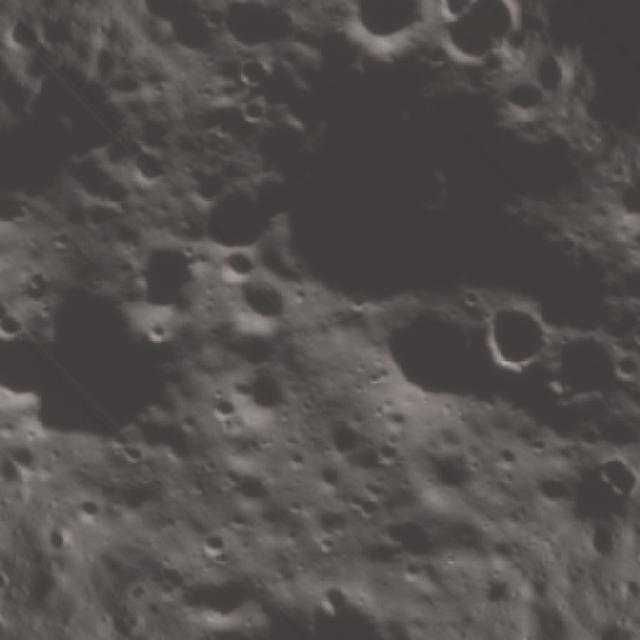crater: (0, 243, 198, 494), (192, 534, 431, 640), (524, 312, 640, 430), (451, 278, 562, 391), (109, 222, 218, 331), (316, 0, 450, 77), (392, 417, 492, 517), (199, 0, 319, 82), (203, 254, 302, 352), (354, 496, 448, 590), (222, 358, 301, 437), (427, 2, 505, 80), (481, 64, 553, 136), (203, 229, 265, 291), (520, 457, 580, 517), (219, 463, 278, 522), (314, 408, 372, 464), (187, 517, 241, 571), (194, 382, 246, 433), (0, 268, 25, 350), (0, 302, 34, 348)
